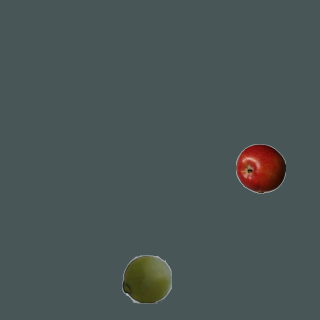Apple Braeburn: (235, 143, 285, 193)
Grape White 4: (121, 253, 171, 303)
